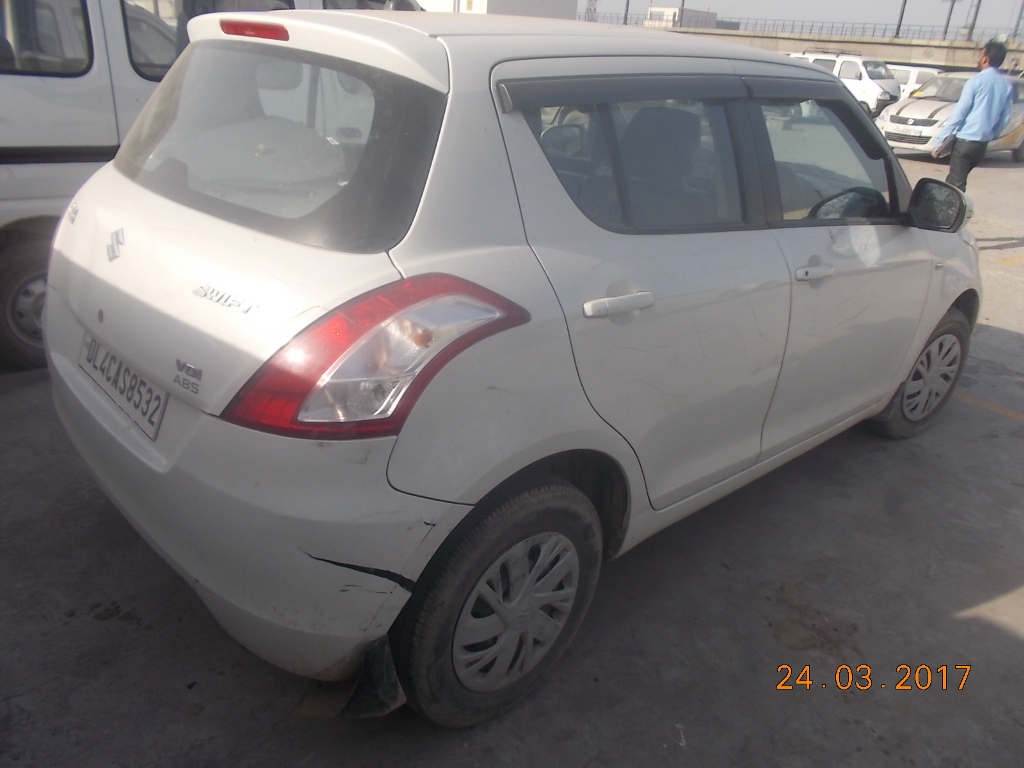Tear: (303, 544, 422, 597)
